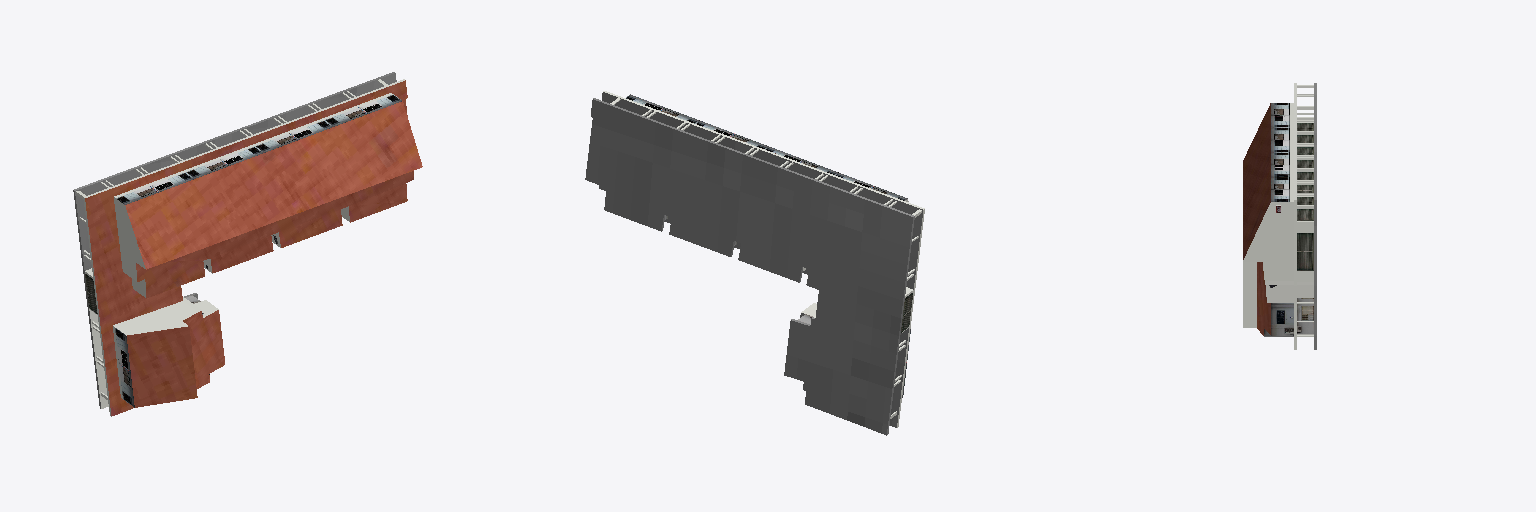
3 views of the same model, side by side, from view 1: azimuth 30°, elevation 25°; view 2: azimuth 150°, elevation 25°; view 3: azimuth 270°, elevation 25° (orthographic).
Visible parts, largest first — view 1: polygon.869; view 2: polygon.869; view 3: polygon.869.
Part boxes in pixels (left/top/right/bottom): polygon.869: left=73, top=72, right=422, bottom=416; polygon.869: left=585, top=91, right=924, bottom=435; polygon.869: left=1243, top=83, right=1316, bottom=349.
Size of the model in its own units: 56.83 by 43.81 by 11.25.
1 materials, 1 textured.